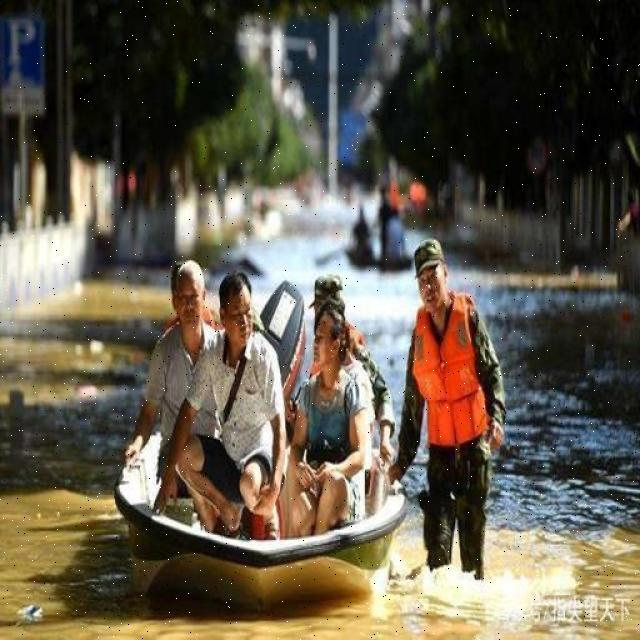rescuer: (385, 220, 527, 610)
